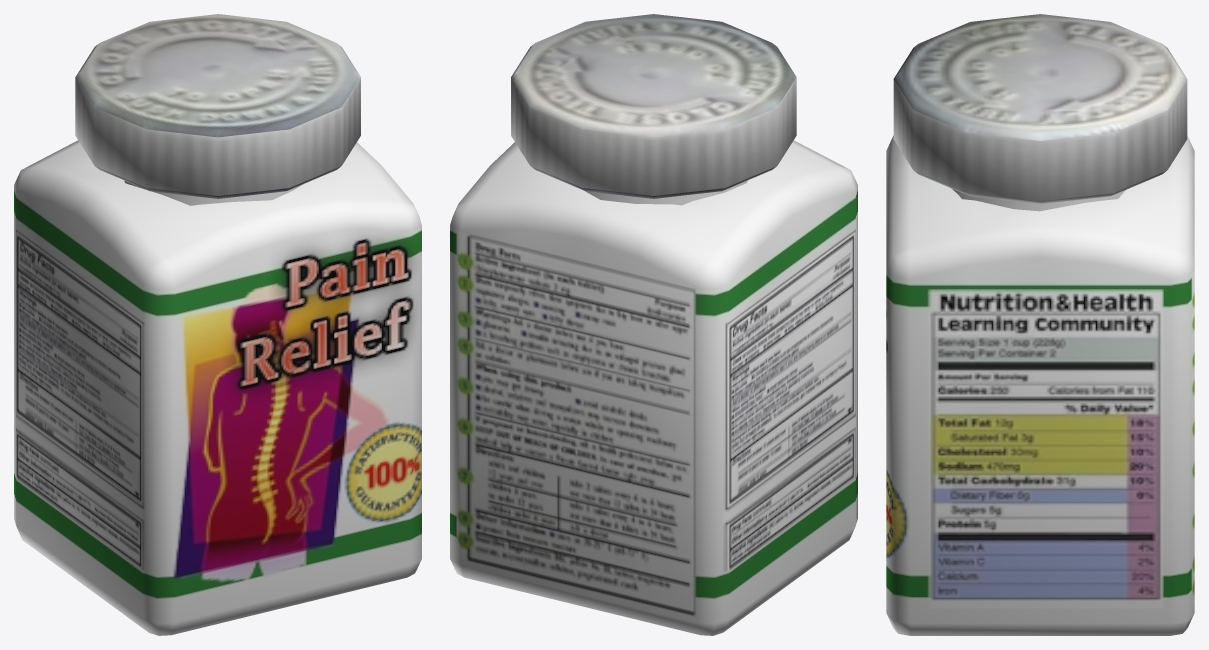
The model's file is item_painkillers.dae.
3 renders of one model, left to right at view 1: azimuth 30°, elevation 25°; view 2: azimuth 150°, elevation 25°; view 3: azimuth 270°, elevation 25°, orthographic. The views are drawn at different scales.
Parts seen in each view (by area): view 1: ChamferBox01_PIVOT; view 2: ChamferBox01_PIVOT; view 3: ChamferBox01_PIVOT.
Boxes of the visible parts, <box> form: ChamferBox01_PIVOT: <box>14,14,421,635</box>; ChamferBox01_PIVOT: <box>450,14,857,635</box>; ChamferBox01_PIVOT: <box>886,14,1194,635</box>.
Size of what is drawn, in the model's own units: 0.0492 by 0.0831 by 0.0462.
